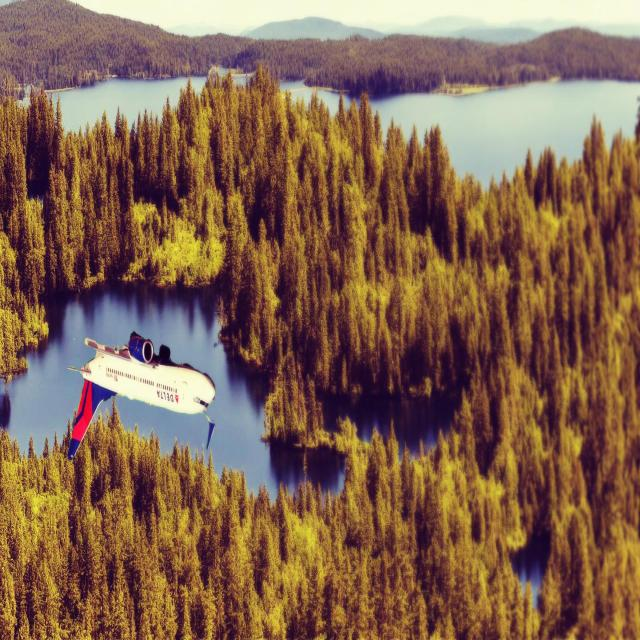airplane: (66, 330, 216, 461)
